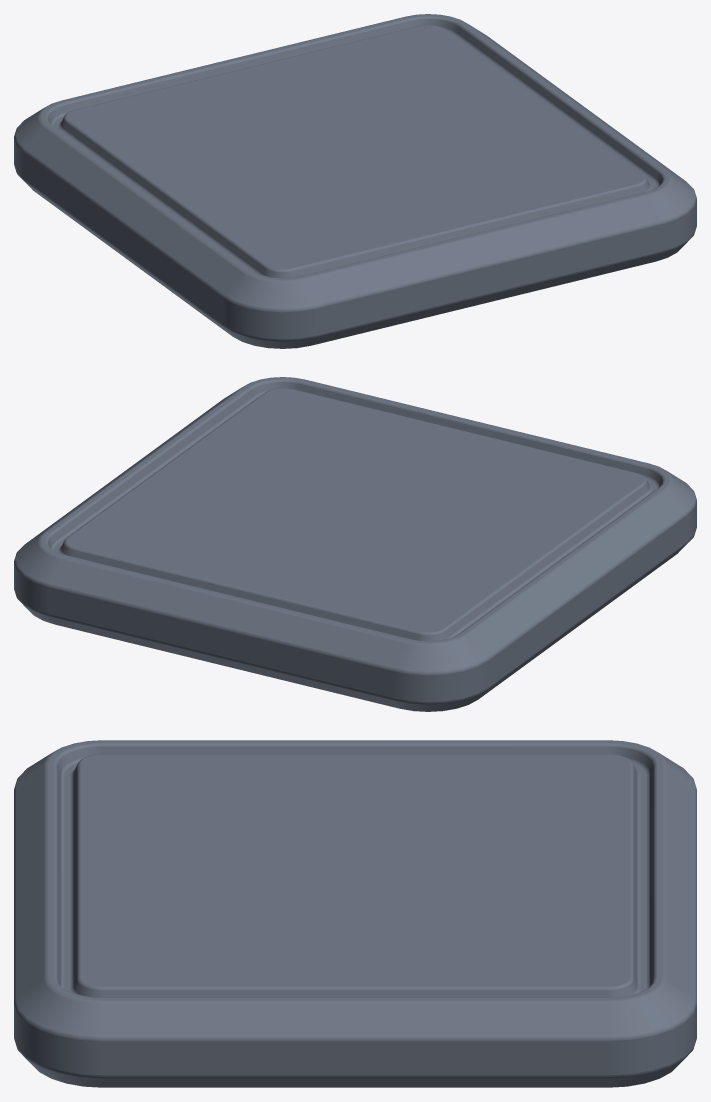
The model's file is plate.glb.
3 views of the same model, one above another, from view 1: azimuth 30°, elevation 25°; view 2: azimuth 150°, elevation 25°; view 3: azimuth 270°, elevation 25° (orthographic). The views are drawn at different scales.
Parts seen in each view (by area): view 1: plate; view 2: plate; view 3: plate.
Boxes of the visible parts, x1,y1,x2,y2 form: plate: (14,14,696,348); plate: (14,377,696,711); plate: (14,740,696,1087).
Bounding box in the file's own units: 2 × 0.26 × 2.
